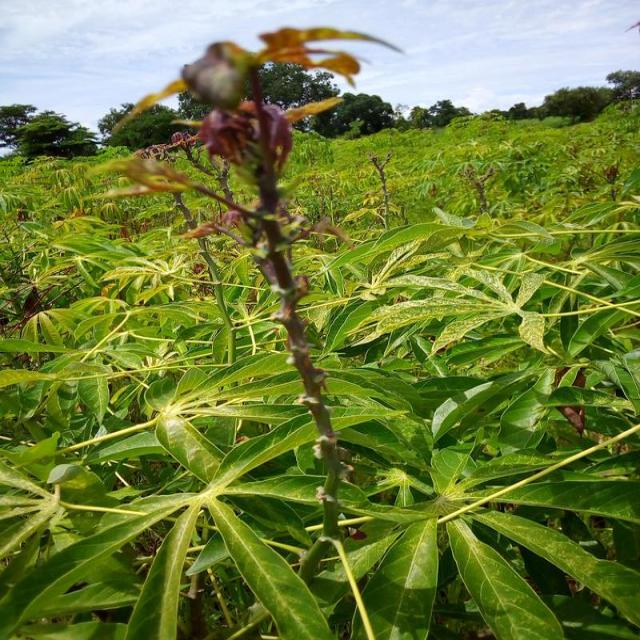cassava leaf: (1, 35, 638, 638)
